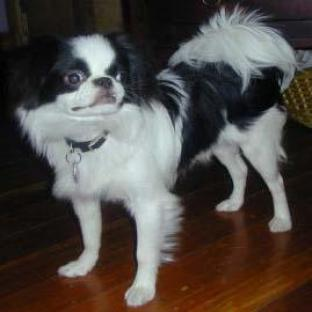Animal: (3, 7, 297, 305)
